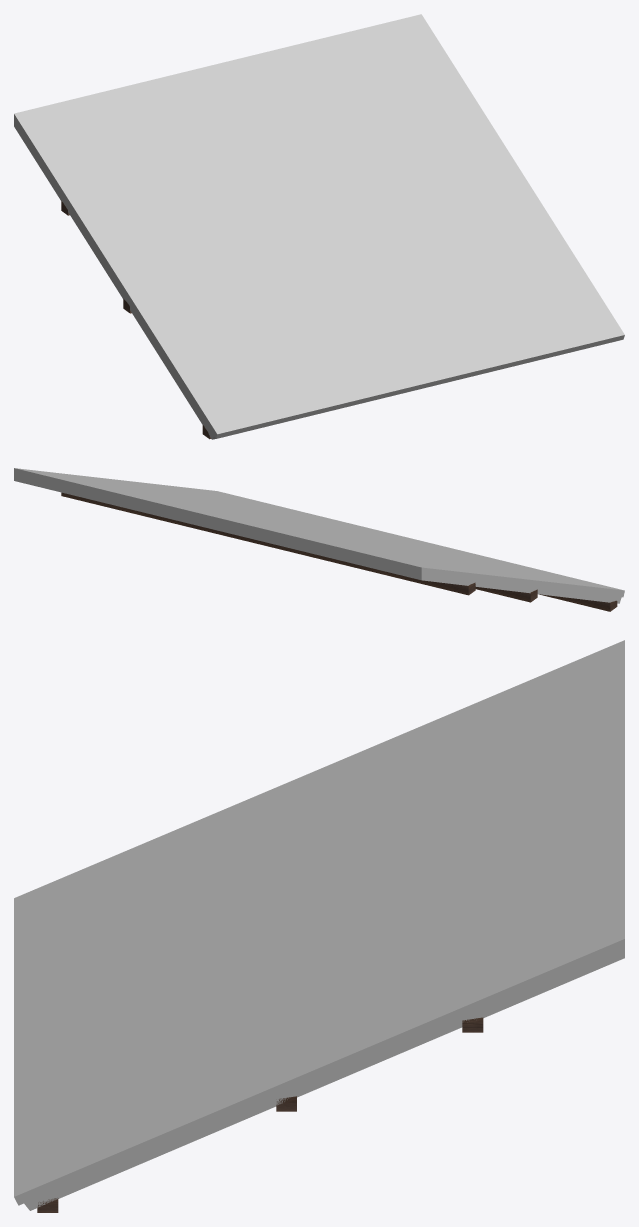
The model's file is kawara_2x3t_a1middle.fbx.
3 views of the same model, one above another, from view 1: azimuth 30°, elevation 25°; view 2: azimuth 150°, elevation 25°; view 3: azimuth 270°, elevation 25° (orthographic). The views are drawn at different scales.
Visible parts, largest first — view 1: kawara_2x3t_a1middle; view 2: kawara_2x3t_a1middle; view 3: kawara_2x3t_a1middle.
Boxes of the visible parts, x1,y1,x2,y2 form: kawara_2x3t_a1middle: [14, 14, 624, 439]; kawara_2x3t_a1middle: [14, 468, 624, 611]; kawara_2x3t_a1middle: [14, 640, 624, 1212].
Size of the model in its own units: 440 by 188 by 380.
